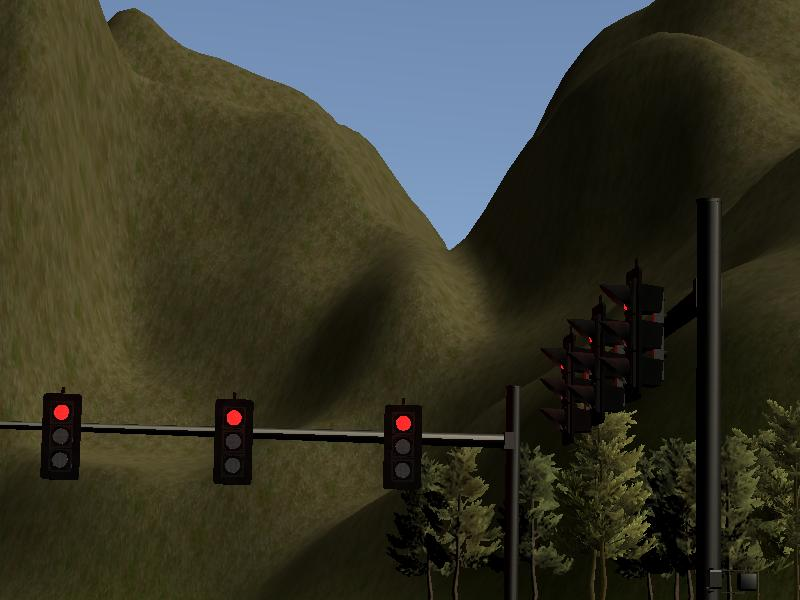red: (39, 393, 80, 480), (213, 397, 254, 484), (383, 404, 424, 491)
